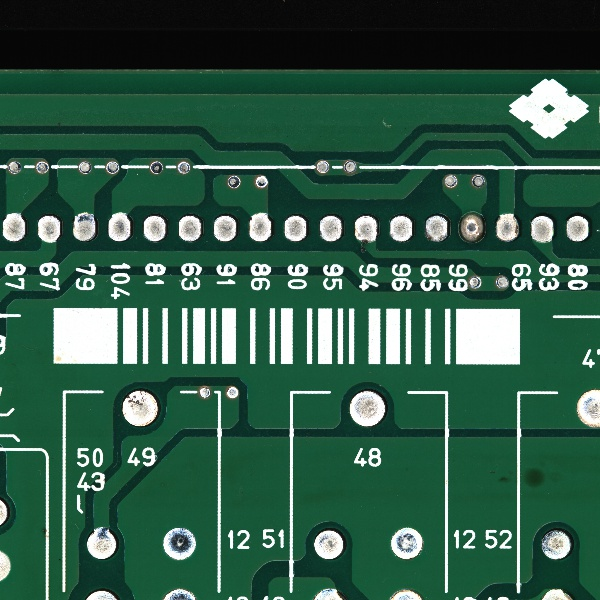Circle: (117, 384, 164, 429), (348, 387, 393, 431), (385, 525, 429, 561), (159, 522, 198, 561), (539, 525, 576, 563), (350, 207, 381, 248), (562, 210, 596, 246), (494, 206, 522, 249), (245, 207, 276, 245), (459, 208, 489, 247), (423, 207, 452, 247), (314, 527, 348, 561), (280, 209, 313, 244), (140, 209, 170, 247), (387, 210, 418, 246), (85, 528, 118, 561), (211, 210, 240, 246), (316, 210, 346, 244), (106, 209, 135, 244), (176, 210, 206, 243), (530, 210, 556, 247), (70, 210, 101, 241), (36, 211, 64, 244)
